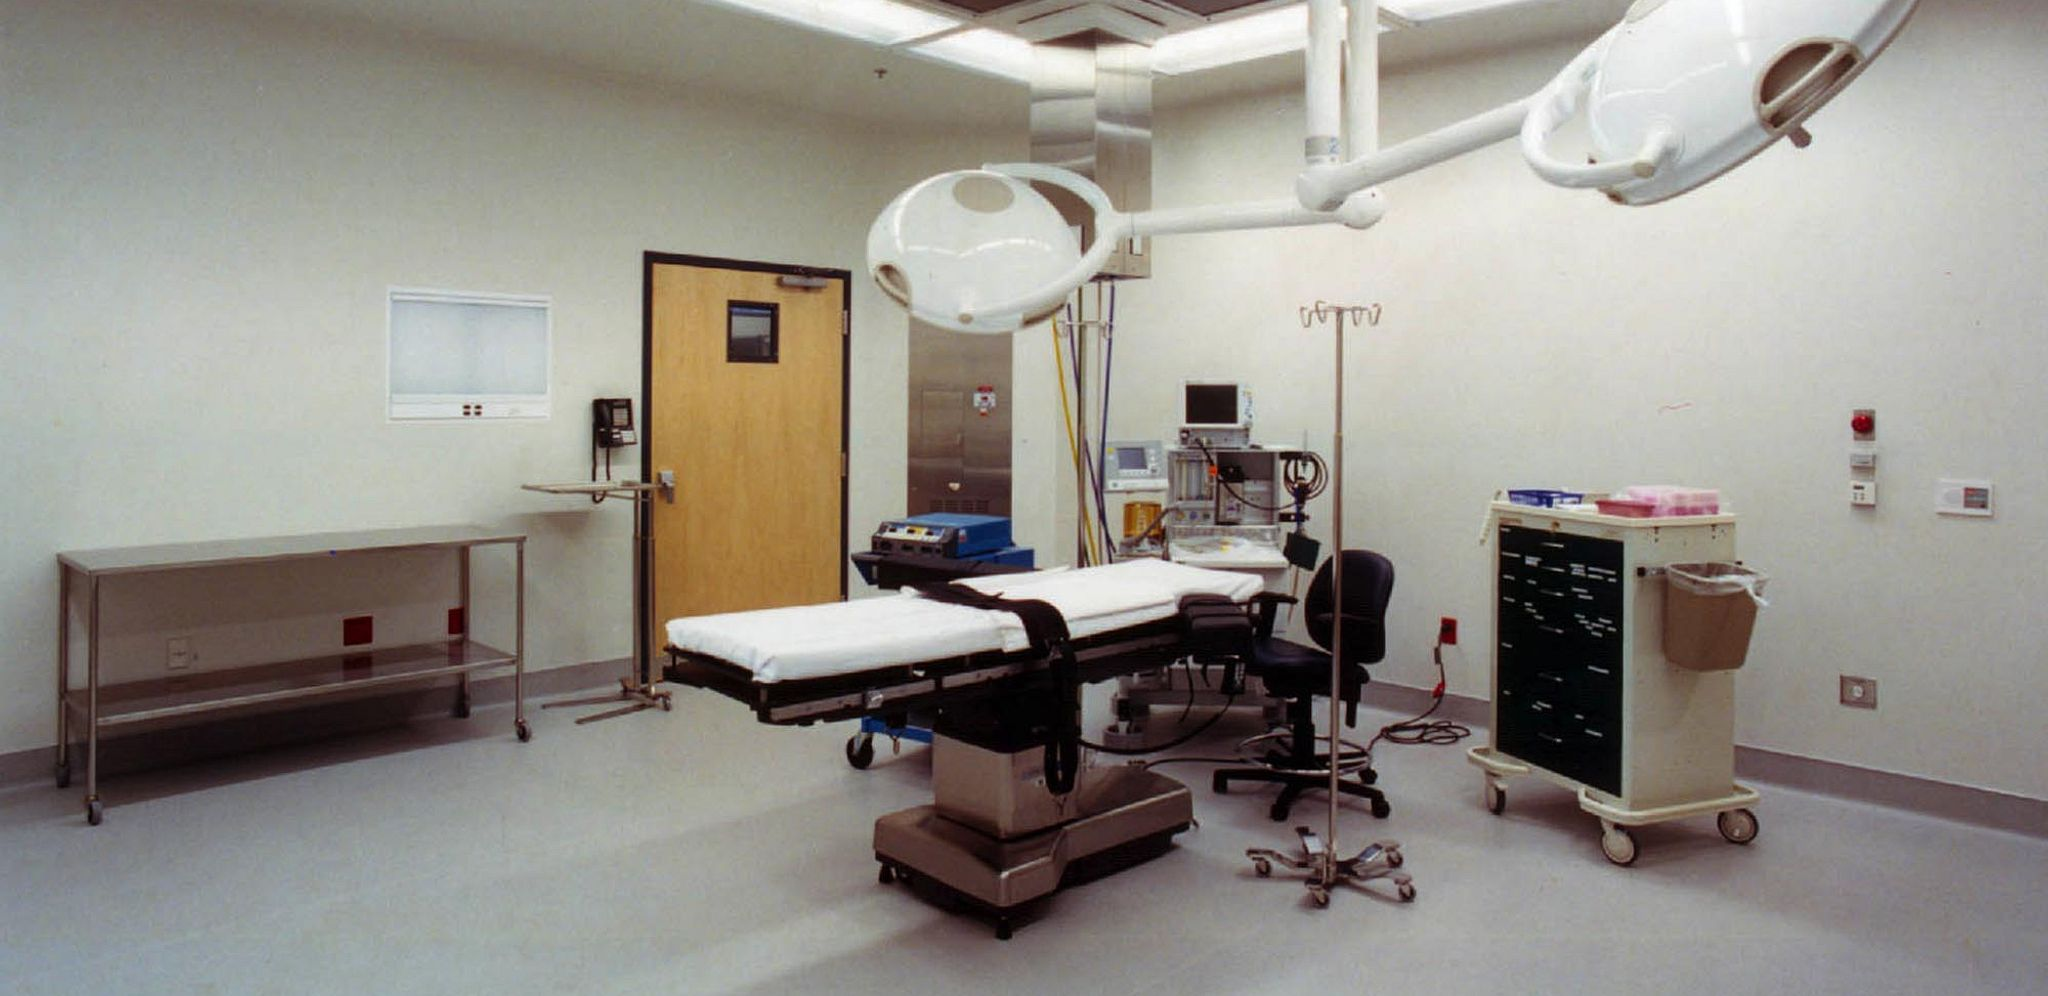bedside_monitor: (1178, 375, 1250, 431)
chair: (1211, 548, 1396, 822)
door_handle: (653, 463, 683, 501)
electrosurgical_unit: (870, 510, 1011, 557)
iv_pole: (1247, 299, 1416, 907)
medical_drawer: (1477, 495, 1774, 869)
operating_bed: (660, 553, 1267, 939)
overbed_table: (524, 473, 678, 734)
surgical_light: (1586, 1, 1917, 210), (865, 164, 1083, 335)
telephone: (586, 397, 639, 488)
utility_cart: (54, 521, 532, 826)
waste_bin: (1655, 550, 1768, 671)
